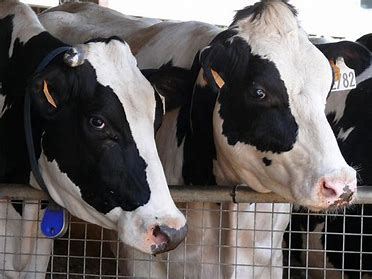waka: (1, 8, 193, 262), (199, 2, 358, 217)
